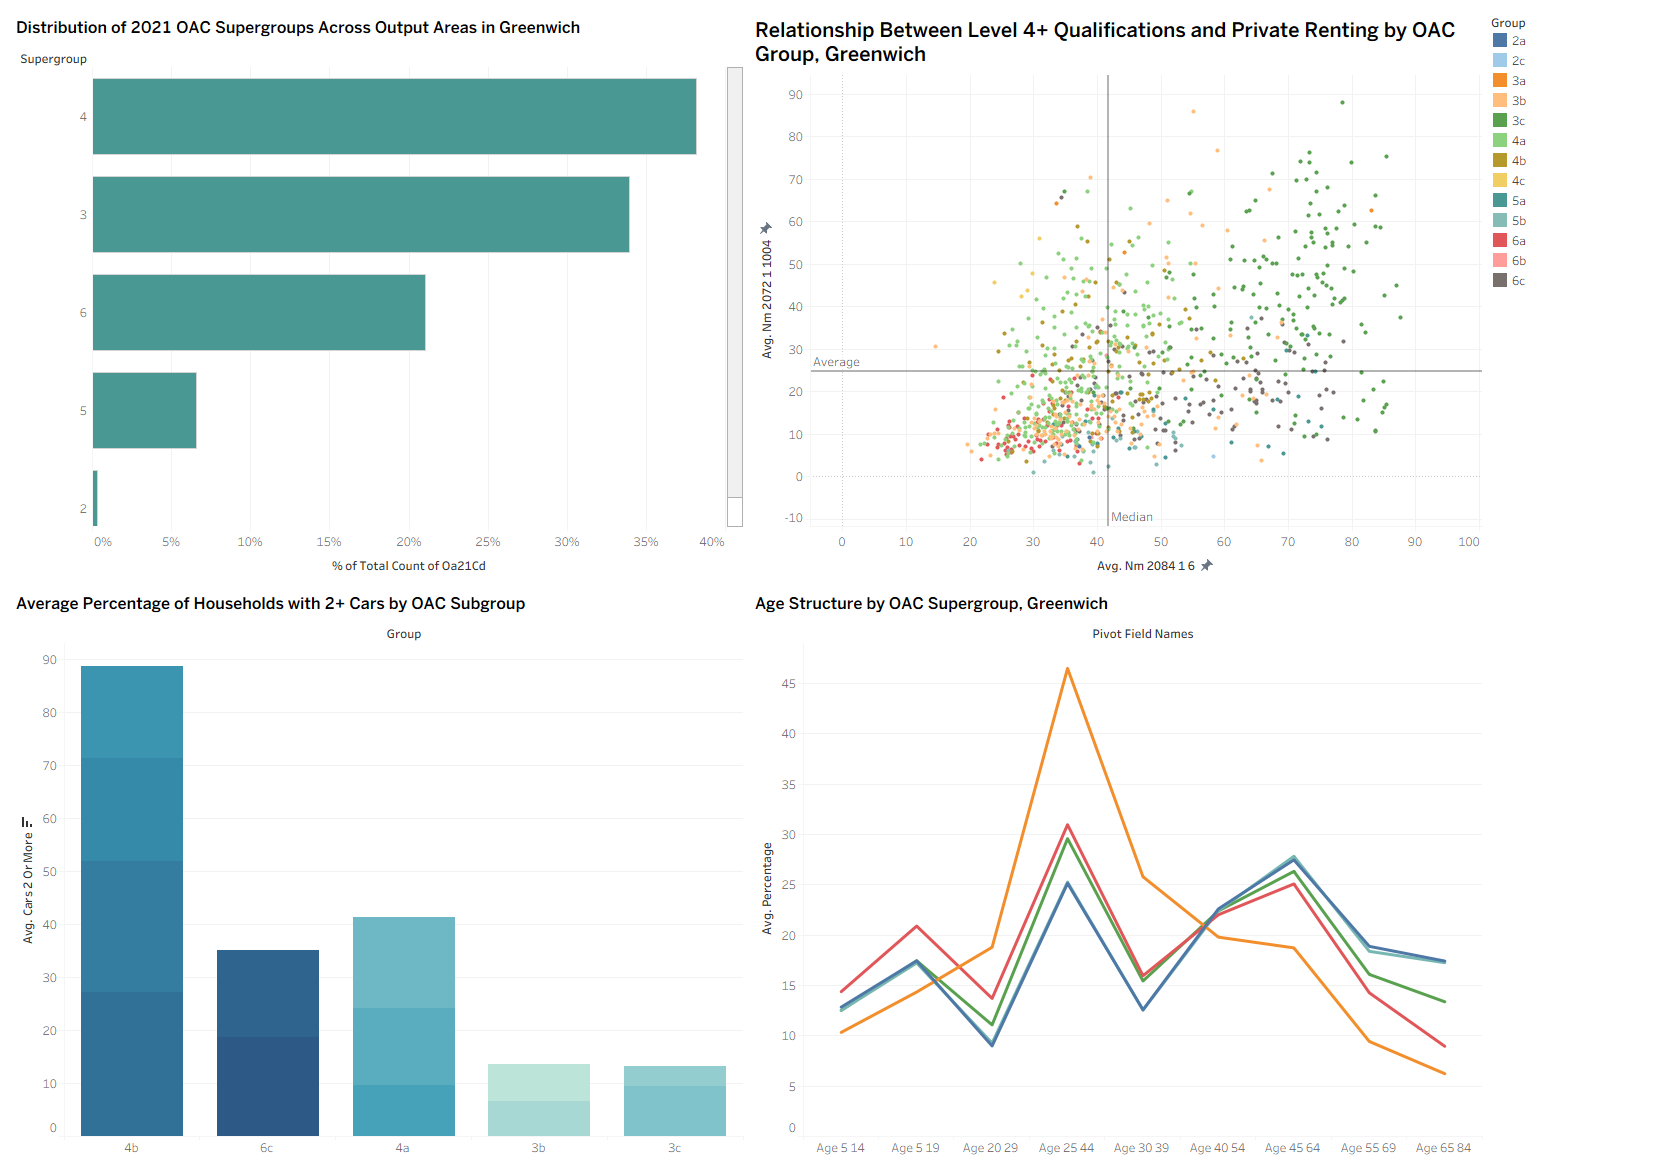

The dashboard page shown, as its layout file describes it:
{"tool":"tableau","page":{"name":"Dashboard 1","canvas":[1654,1169],"ordinal":0},"visuals":[{"type":"worksheet","title":"Sheet 1","mark":"Automatic","rows":["supergroup"],"cols":["oa21cd"],"box":[8,8,739,576.5]},{"type":"worksheet","title":"Sheet 2","mark":"Automatic","rows":["NM_2072_1_1004"],"cols":["NM_2084_1_6"],"box":[747,8,739,576.5]},{"type":"legend","title":"Sheet 2","param":"[federated.1143ifv0u1g0oj15r3rgb1ndpdsj].[none:group:nk]","box":[1486,8,160,359]},{"type":"worksheet","title":"Sheet 4","mark":"Automatic","rows":["cars_2_or_more"],"cols":["group"],"box":[8,584.5,739,576.5]},{"type":"worksheet","title":"Sheet 5","mark":"Line","rows":["Pivot Field Values"],"cols":["Pivot Field Names"],"box":[747,584.5,739,576.5]}]}

Visuals, with their boxes in screenshot pixels (x1, y1, x2, y2), scaled from the page's 1654x1169 canvas onto the 1654x1169 screenshot:
"Sheet 1" worksheet: [8,8,747,584]
"Sheet 2" worksheet: [747,8,1486,584]
"Sheet 2" legend: [1486,8,1646,367]
"Sheet 4" worksheet: [8,584,747,1161]
"Sheet 5" worksheet (Line marks): [747,584,1486,1161]
